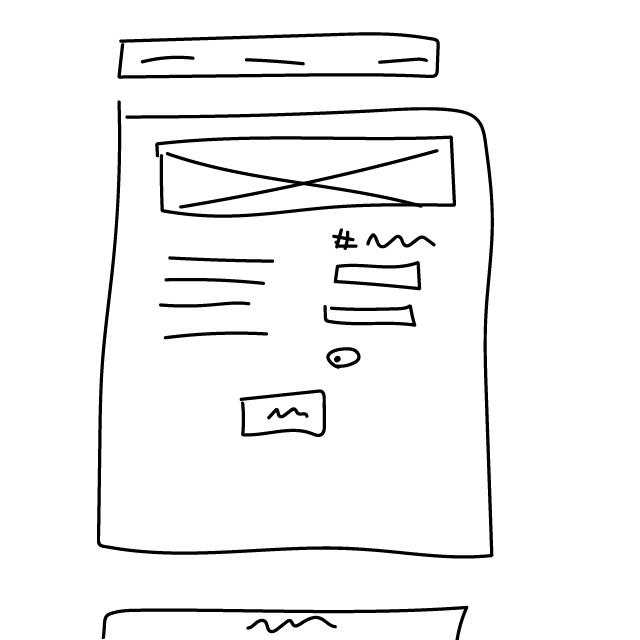buttonrotation: (236, 386, 332, 441)
checkboxrotation: (327, 347, 366, 371)
containerrotation: (80, 96, 517, 575)
footerrotation: (92, 599, 477, 640)
framerotation: (153, 133, 467, 224)
headingrotation: (333, 224, 440, 259)
inputrotation: (322, 299, 421, 330), (334, 263, 427, 296)
navrotation: (107, 26, 449, 90)
textrotation: (153, 249, 284, 350)
